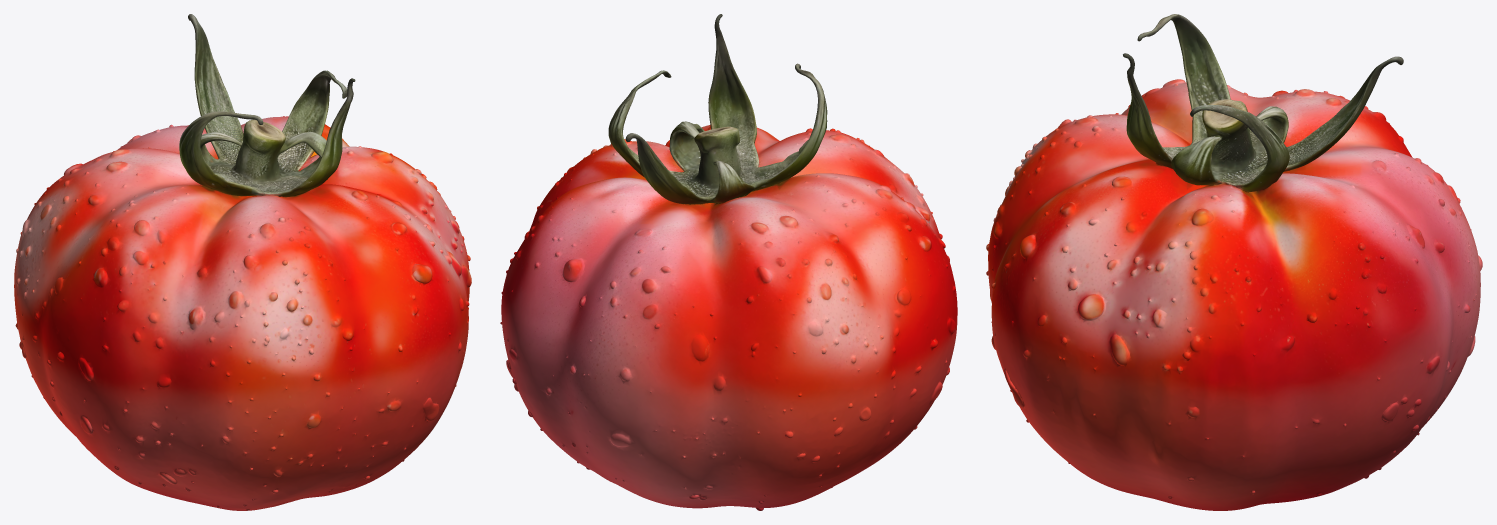
File: Tomato.fbx
The picture shows the model from 3 angles, left to right: view 1: azimuth 30°, elevation 25°; view 2: azimuth 150°, elevation 25°; view 3: azimuth 270°, elevation 25°; orthographic projection. The views are drawn at different scales.
Visible parts, largest first — view 1: tripo_node_f43ec41a; view 2: tripo_node_f43ec41a; view 3: tripo_node_f43ec41a.
Boxes of the visible parts, left/top/right/bottom form: tripo_node_f43ec41a: left=14, top=14, right=471, bottom=510; tripo_node_f43ec41a: left=500, top=14, right=957, bottom=510; tripo_node_f43ec41a: left=986, top=14, right=1482, bottom=510.
Bounding box in the file's own units: 97.7 × 98 × 97.86.
